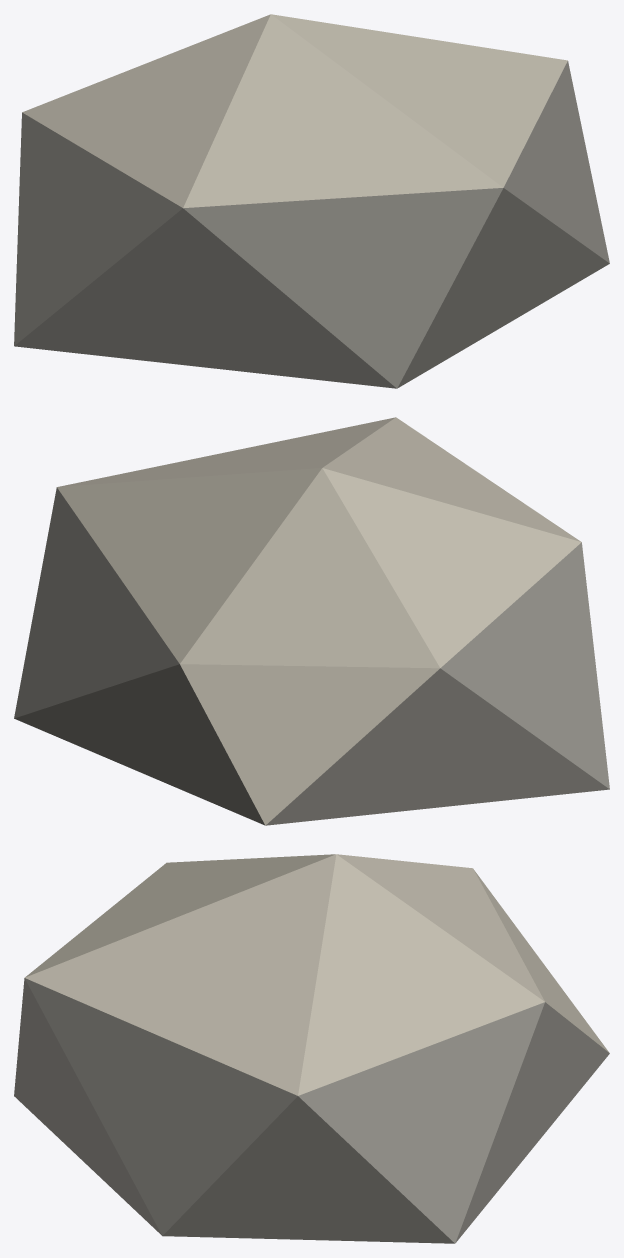
The model's file is SM_Rock_D.fbx.
3 renders of one model, top to bottom at view 1: azimuth 30°, elevation 25°; view 2: azimuth 150°, elevation 25°; view 3: azimuth 270°, elevation 25°, orthographic. The views are drawn at different scales.
Parts seen in each view (by area): view 1: SM_Rock_D; view 2: SM_Rock_D; view 3: SM_Rock_D.
Part boxes in pixels (left/top/right/bottom): SM_Rock_D: left=14, top=14, right=609, bottom=388; SM_Rock_D: left=14, top=417, right=609, bottom=825; SM_Rock_D: left=14, top=854, right=609, bottom=1243.
Bounding box in the file's own units: 0.379 × 0.1781 × 0.3492.
